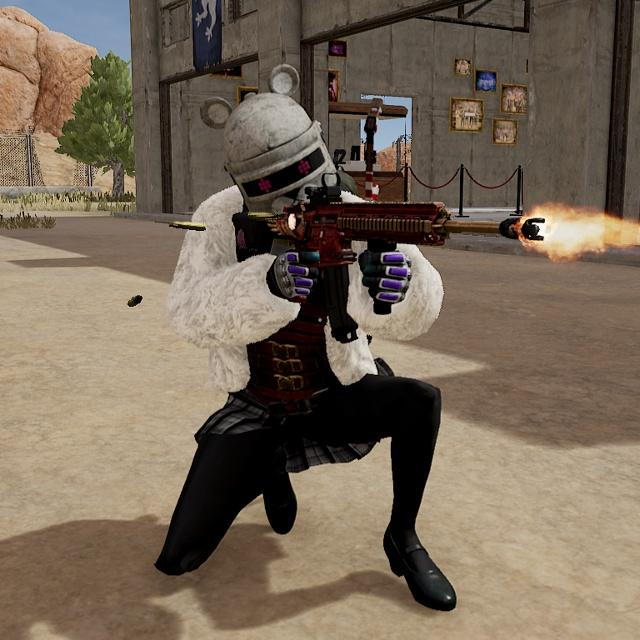head: (217, 87, 339, 220)
people: (150, 82, 473, 617)
